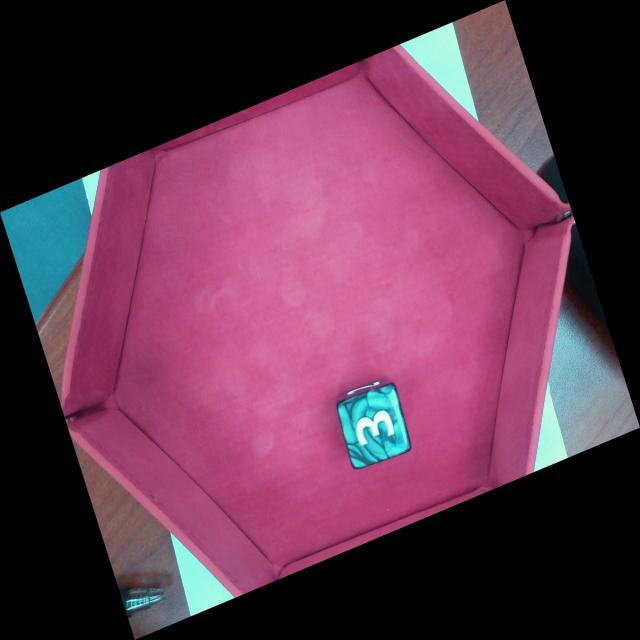dice: (335, 381, 413, 471)
